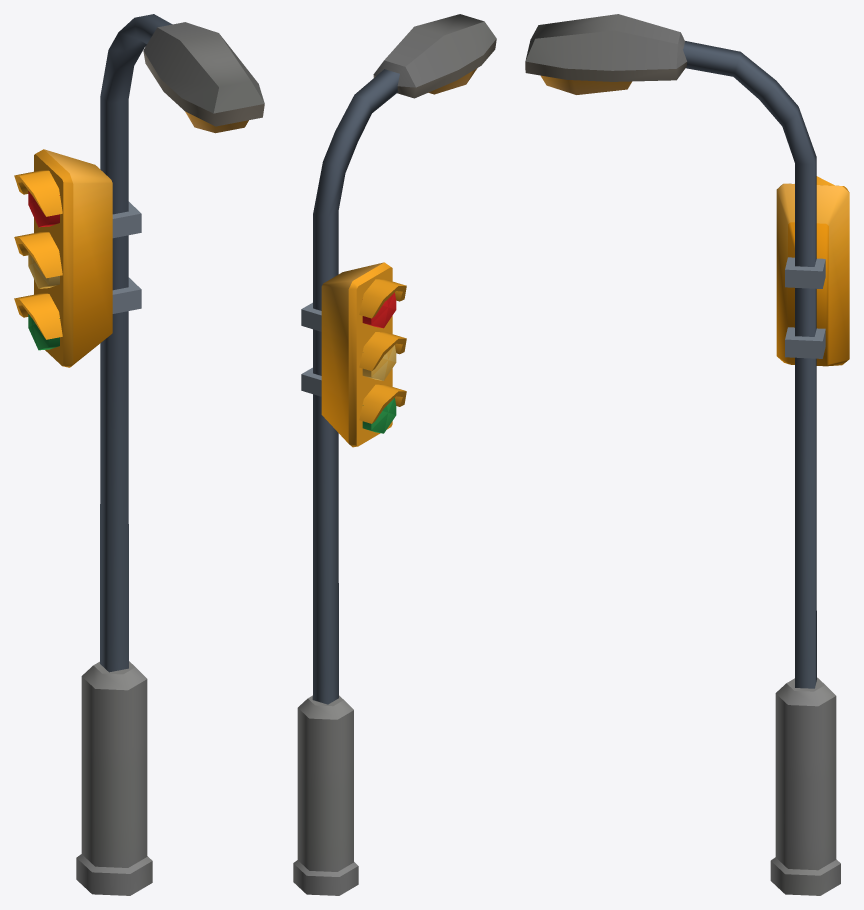
File: Lights_7_A.fbx
3 views of the same model, side by side, from view 1: azimuth 30°, elevation 25°; view 2: azimuth 150°, elevation 25°; view 3: azimuth 270°, elevation 25° (orthographic). The views are drawn at different scales.
Parts seen in each view (by area): view 1: Lights_7_A; view 2: Lights_7_A; view 3: Lights_7_A.
Boxes of the visible parts, x1,y1,x2,y2 form: Lights_7_A: (14,14,264,895); Lights_7_A: (293,14,496,895); Lights_7_A: (525,14,849,895).
Size of the model in its own units: 57.5 by 423 by 146.
